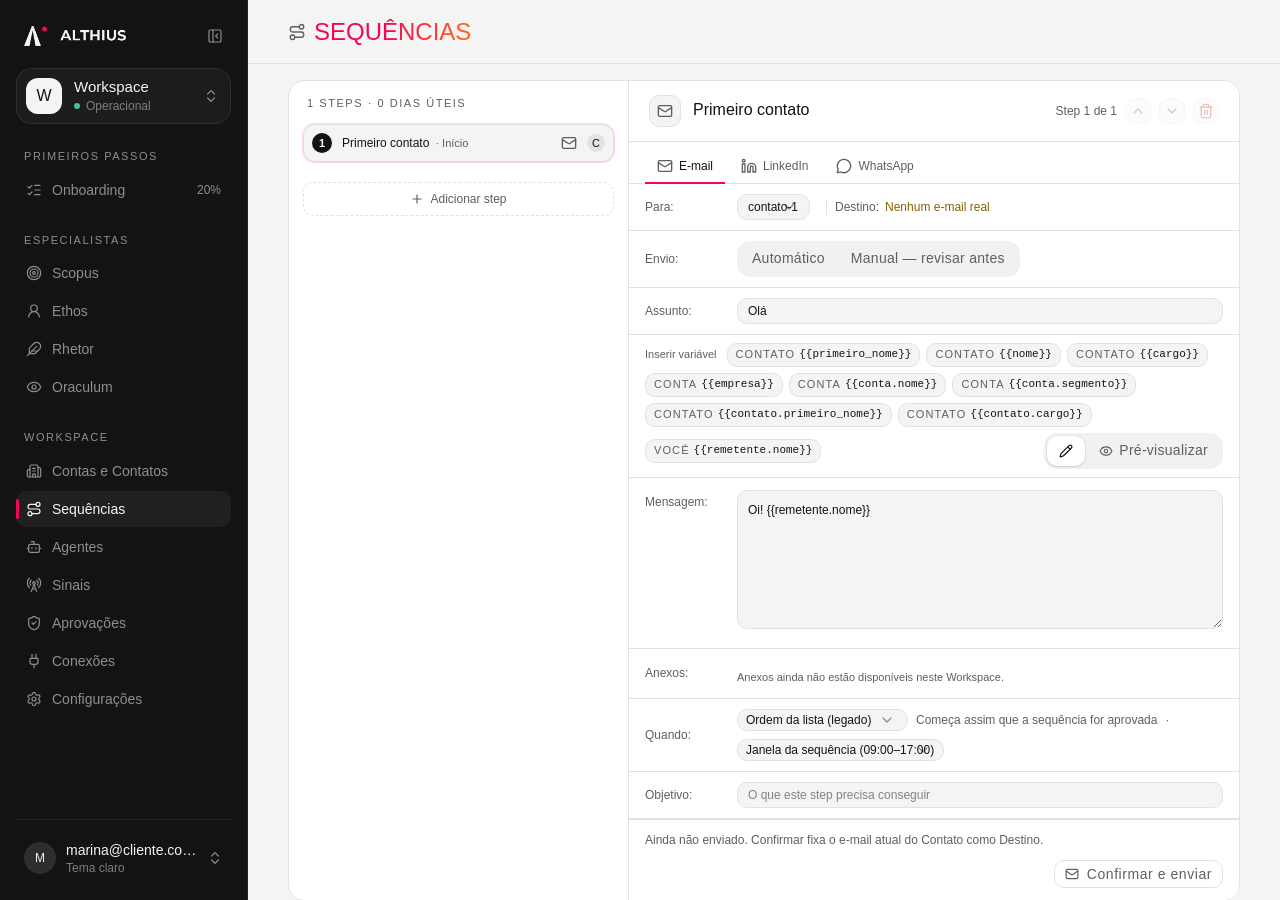
it: Workspace operacional e Demonstração › a prévia da Sequência sai em nome da Conta de usuário da sessão, sem a remetente da Demonstração
(page scrolled)
Click the button "Pré-visualizar": [1154, 450] box [1087,436,1220,466]
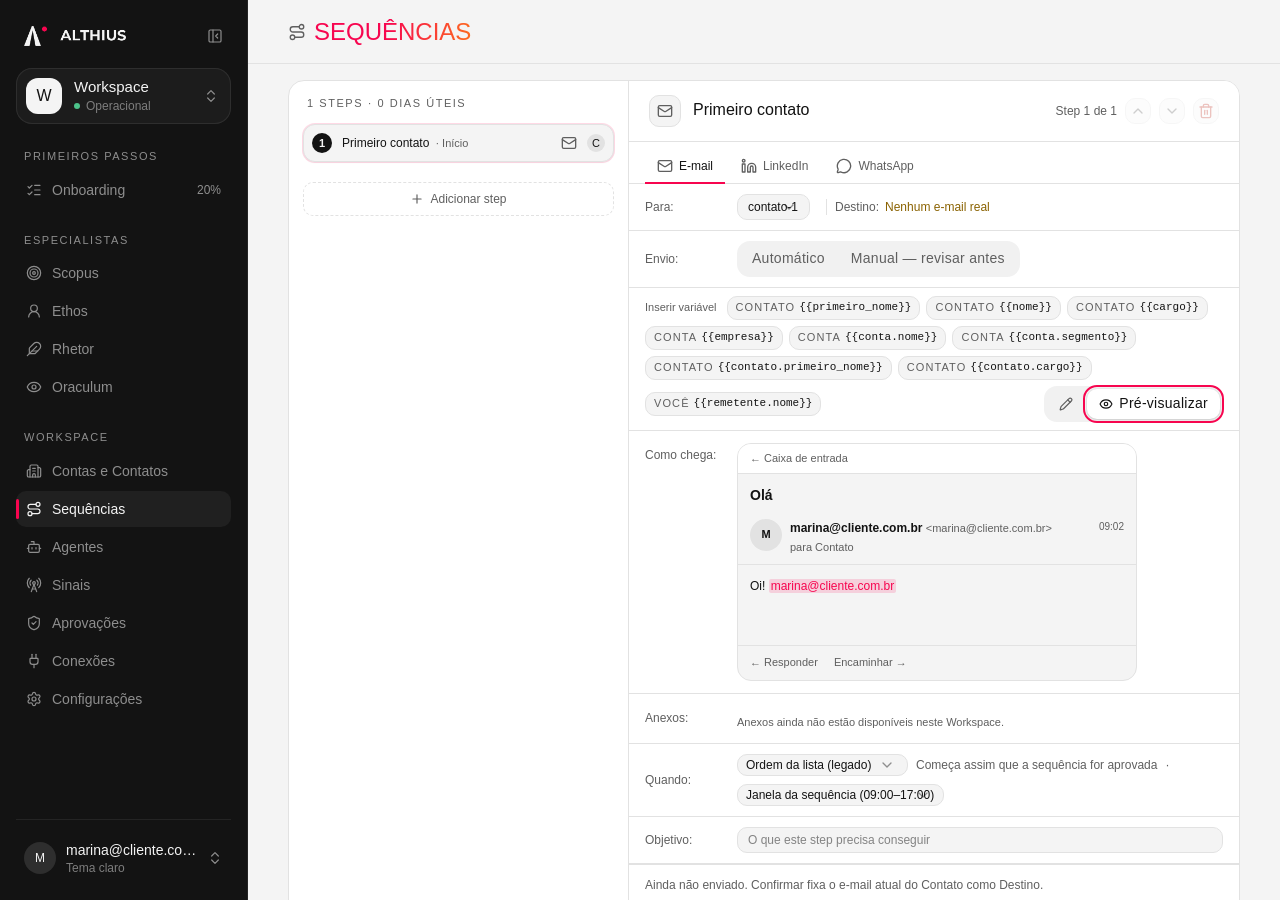
Result: the text "marina@cliente.com.br" in the row of "09:02" is shown at [790,520,922,534]
